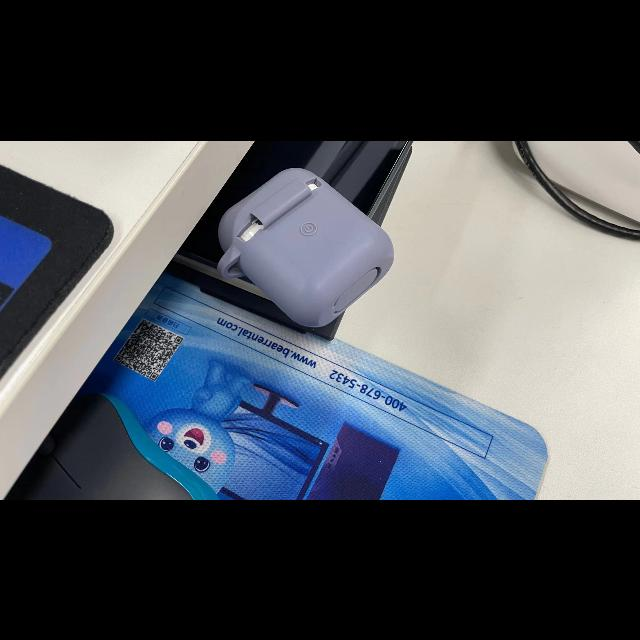airpods: (215, 168, 394, 328)
